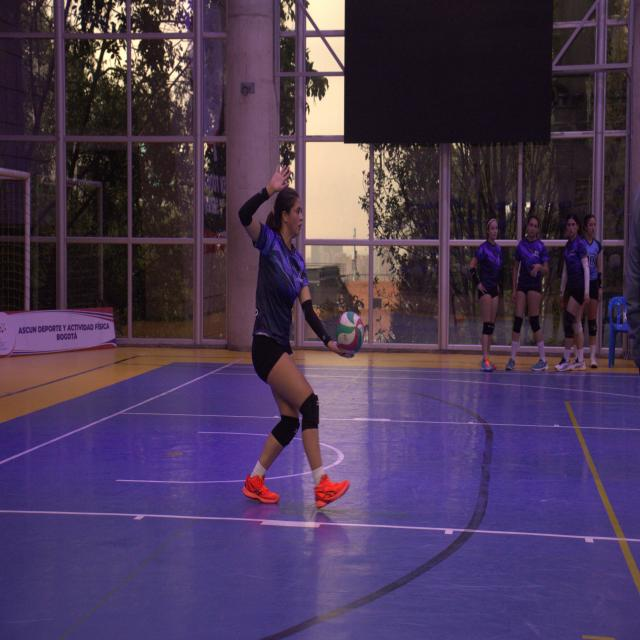volleyball: (334, 314, 367, 352)
